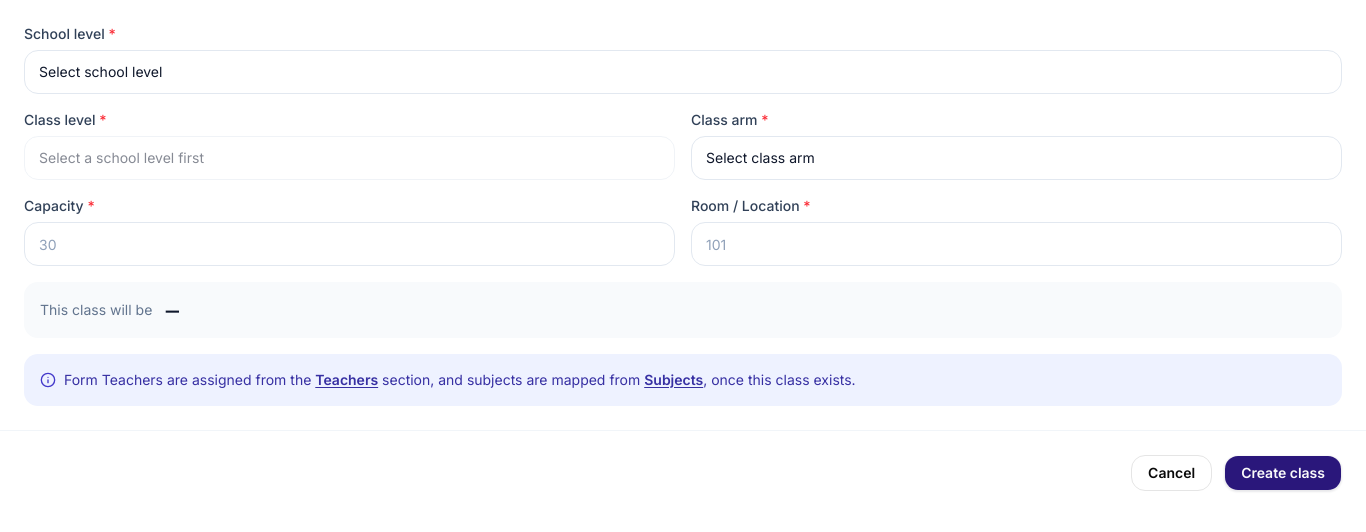
it: CreateClassForm › required-field validation › shows a validation error for room when not provided
Select "Primary" in the dropdown labelled "School level *" at (683, 72), box 24,50 -> 1342,94
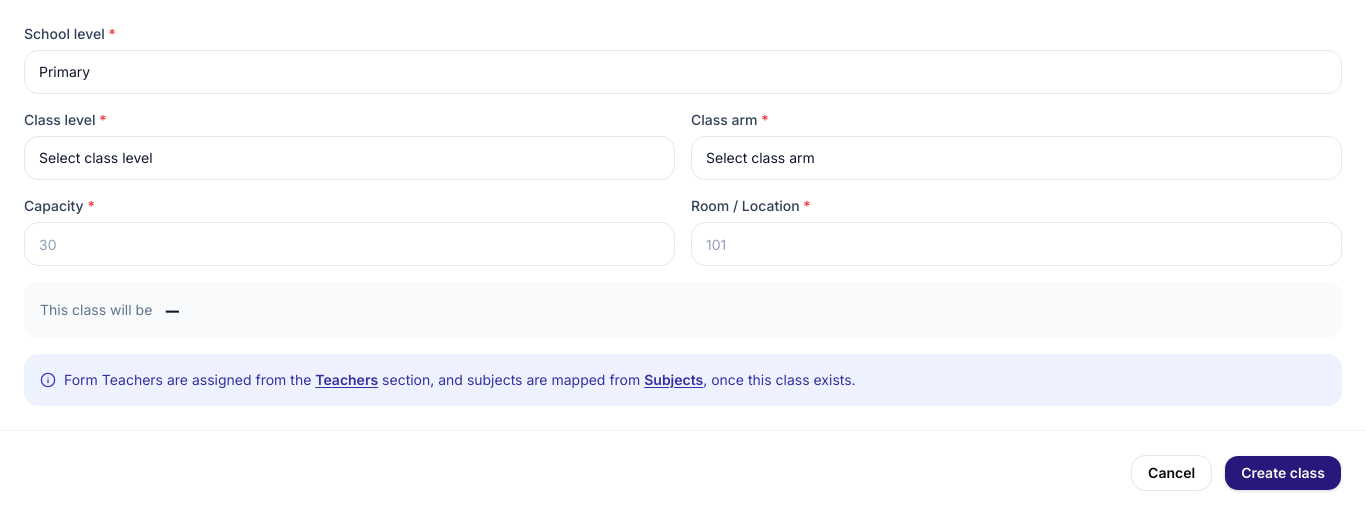
Check: the dropdown labelled "Class level *" is enabled
Select "Primary 1" in the dropdown labelled "Class level *" at (350, 158), box 24,136 -> 675,180
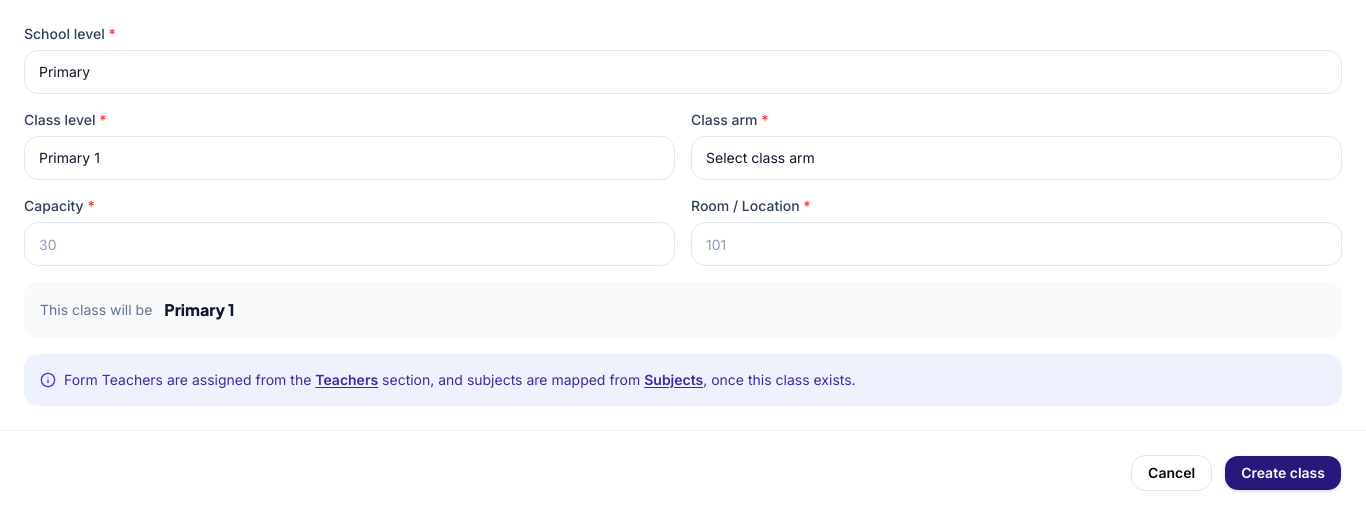
Select "A" in the dropdown labelled "Class arm *" at (1016, 158), box 691,136 -> 1342,180
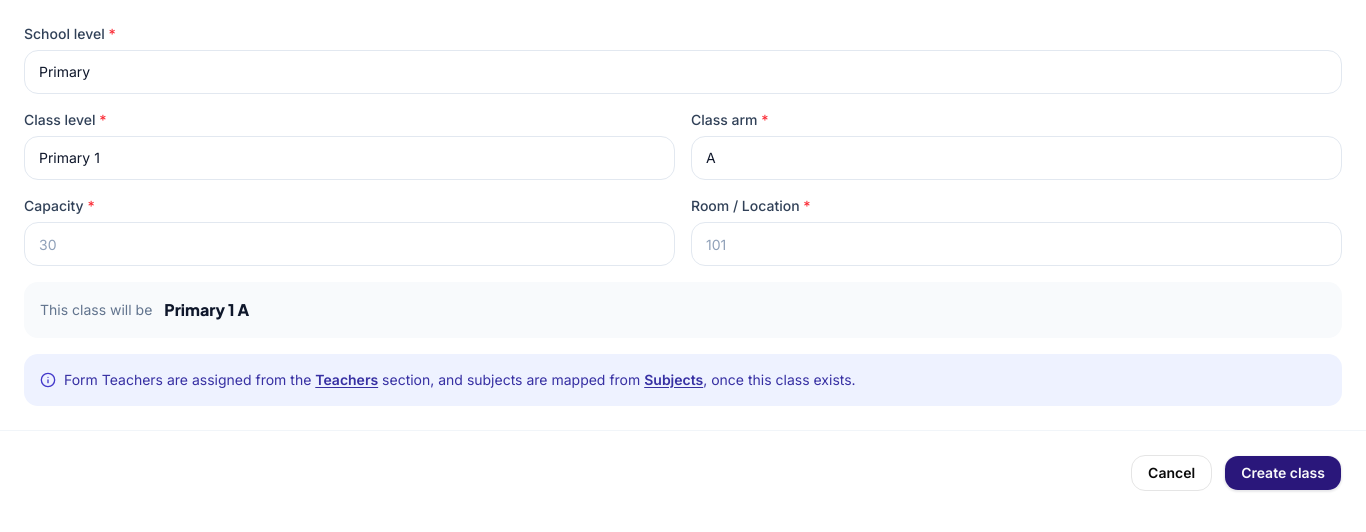
Type "35" into the number field labelled "Capacity *".
click(350, 244); type("35")  # box 24,222 -> 675,266
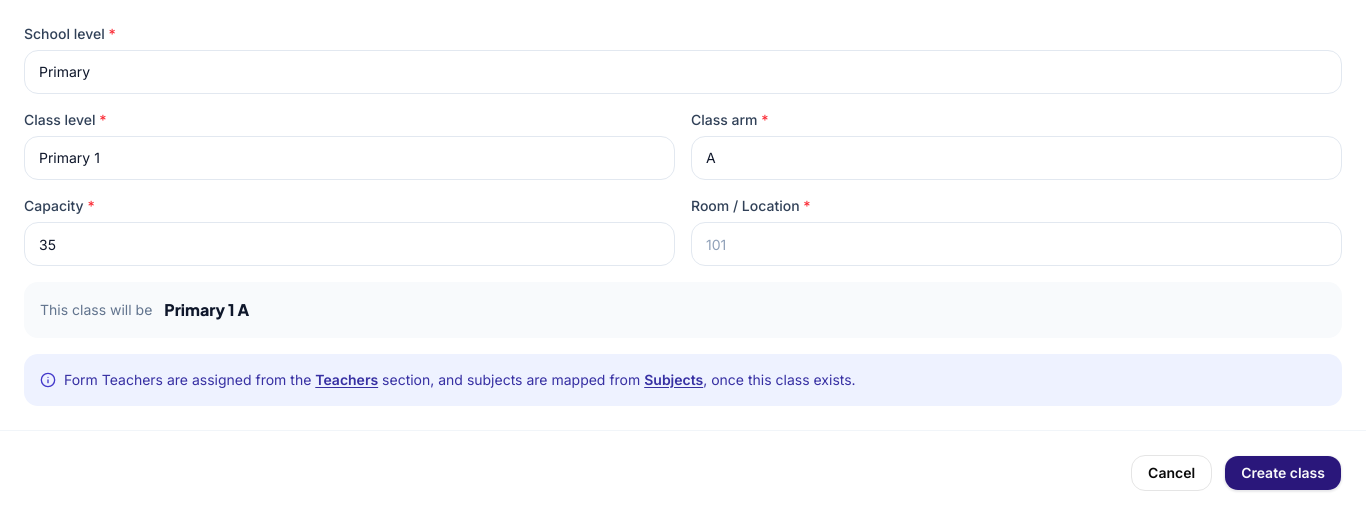
Submit the form
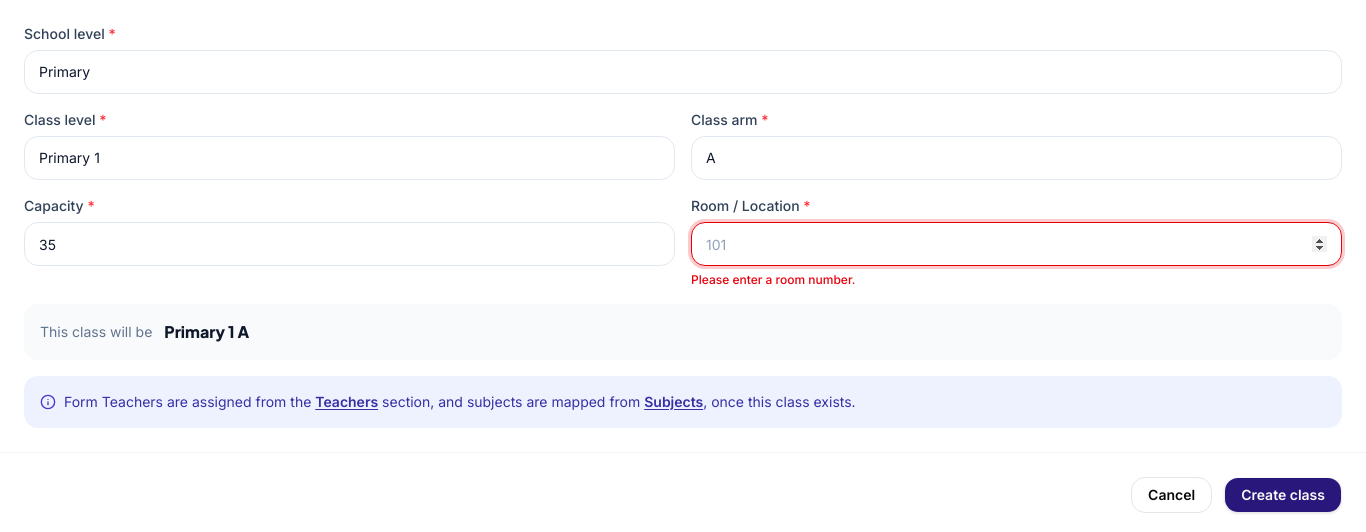
Check: the text "Please enter a room number." is shown, box 691,272 -> 855,287
